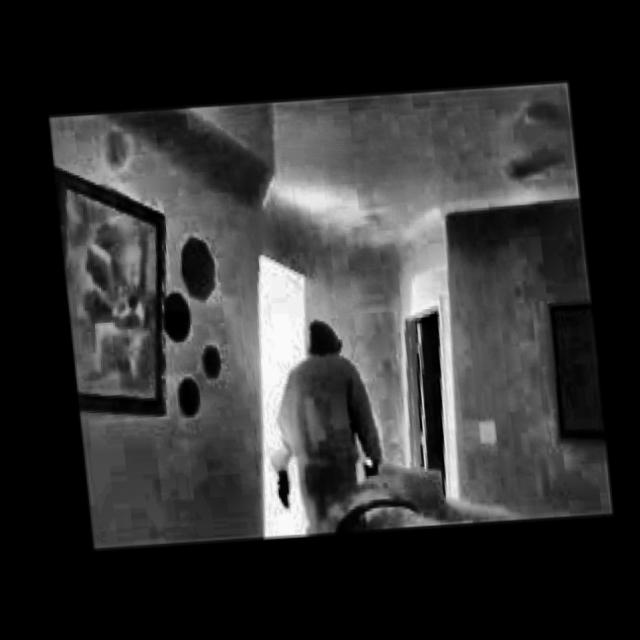burglary: (246, 303, 461, 538)
